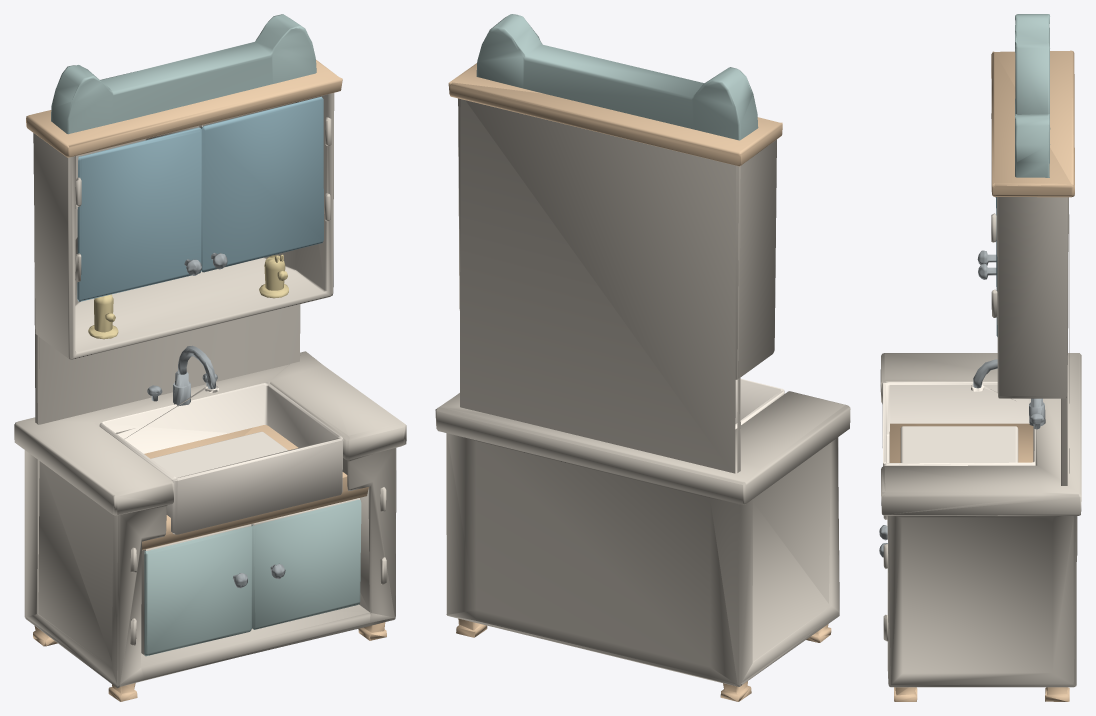
Rendered from bath_vanity.glb.
The picture shows the model from 3 angles, left to right: view 1: azimuth 30°, elevation 25°; view 2: azimuth 150°, elevation 25°; view 3: azimuth 270°, elevation 25°; orthographic projection. The views are drawn at different scales.
Bounding box in the file's own units: 1.8 × 3.35 × 1.08.
